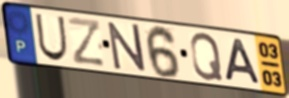6: (143, 23, 182, 80)
A: (223, 37, 263, 86)
N: (106, 21, 148, 74)
Q: (188, 31, 225, 82)
U: (33, 11, 69, 63)
Z: (66, 15, 107, 68)
